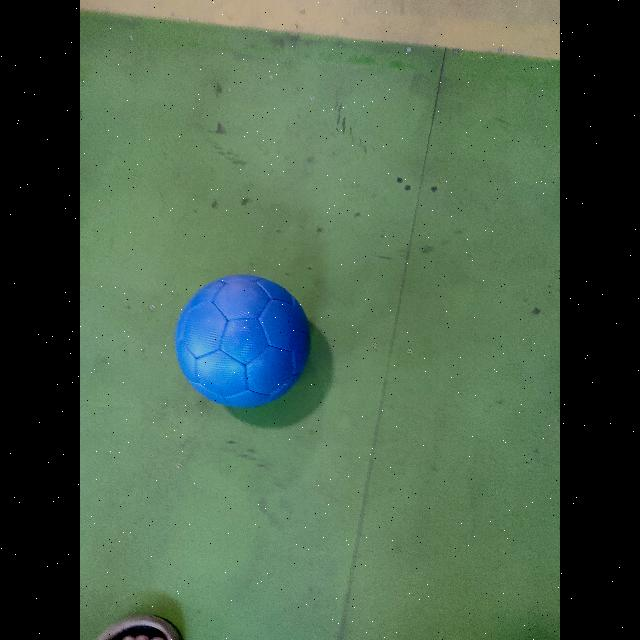B: (175, 275, 309, 407)
